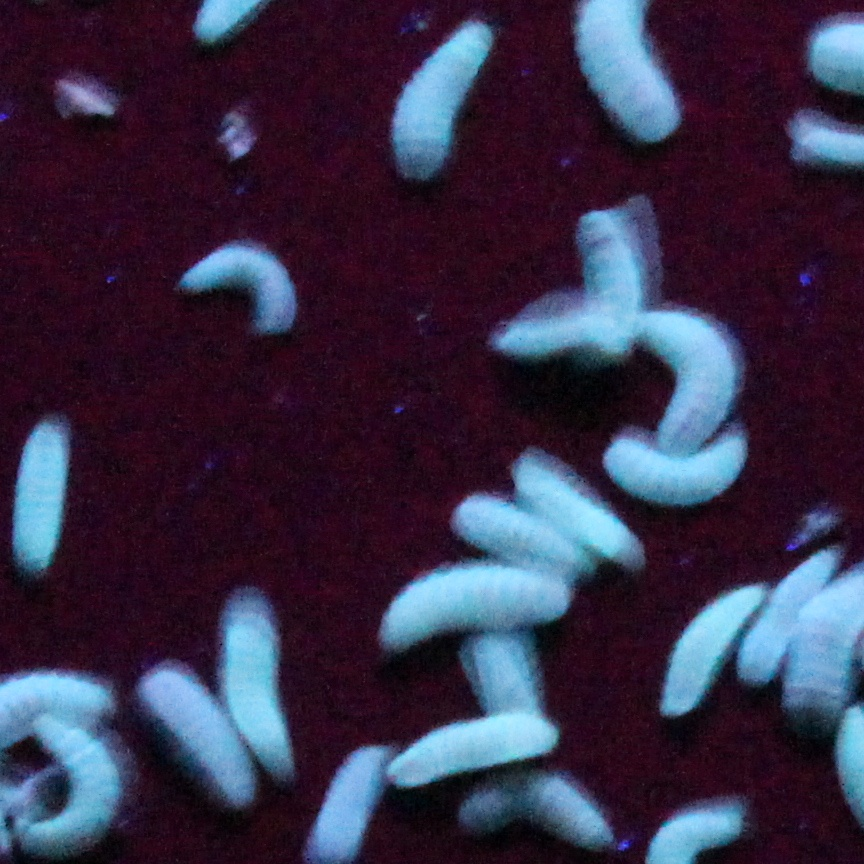larve: (374, 565, 567, 646), (394, 23, 493, 174), (144, 673, 256, 805), (640, 310, 734, 454), (665, 586, 765, 714), (27, 713, 117, 851), (739, 550, 834, 680), (512, 461, 634, 562), (385, 718, 558, 789), (453, 496, 593, 578), (222, 611, 290, 773), (461, 774, 611, 846), (605, 436, 746, 504), (180, 249, 295, 326), (580, 211, 639, 357), (15, 429, 64, 562), (470, 636, 537, 716), (497, 318, 578, 355)
